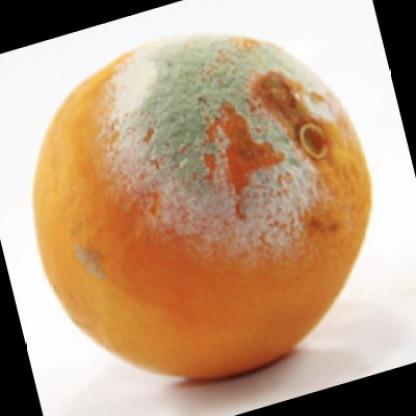rotten: (36, 33, 370, 376)
